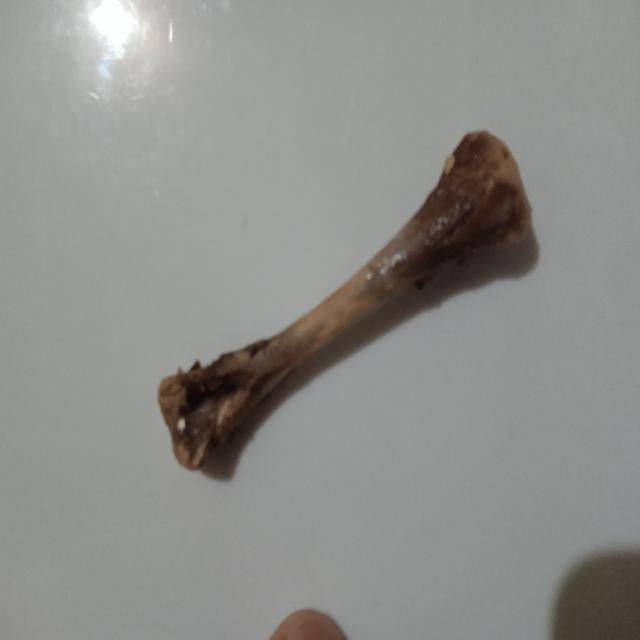bone: (141, 110, 548, 484)
